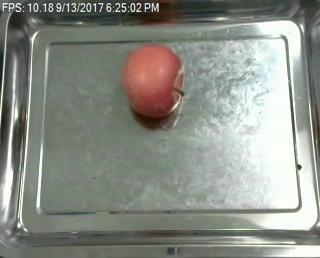apple: (121, 45, 185, 118)
